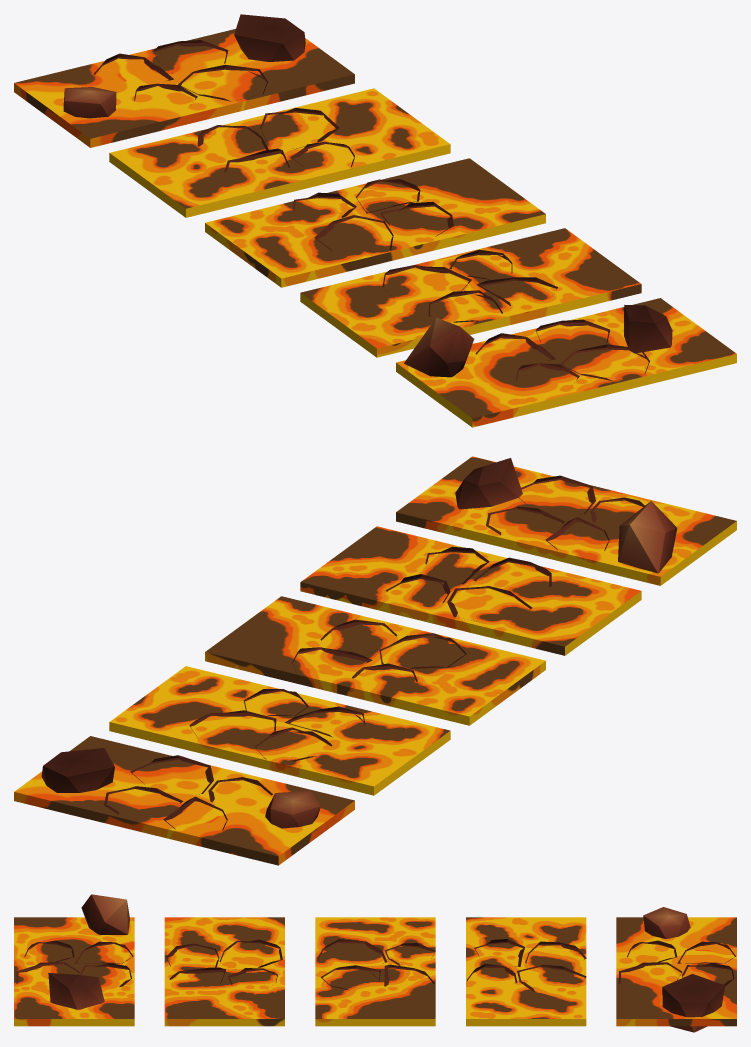
File: VolcanoPath.glb
3 renders of one model, top to bottom at view 1: azimuth 30°, elevation 25°; view 2: azimuth 150°, elevation 25°; view 3: azimuth 270°, elevation 25°, orthographic. The views are drawn at different scales.
Visible parts, largest first — view 1: Mod3, Mod2, Mod4, Mod5, Mod1, Sidelands5, Sidelands, Islands, Islands.003, Islands.004, Islands.002, Islands.001; view 2: Mod2, Mod3, Mod4, Mod1, Mod5, Sidelands5, Sidelands, Islands.003, Islands.001, Islands.002, Islands, Islands.004; view 3: Mod4, Mod3, Mod2, Mod5, Mod1, Sidelands, Sidelands5, Islands.002, Islands.001, Islands.004, Islands.003, Islands.
Part boxes in pixels (x1,y1,x2,y2): Mod3: [205, 158, 545, 287]; Mod2: [109, 88, 450, 217]; Mod4: [300, 228, 641, 357]; Mod5: [396, 298, 736, 427]; Mod1: [14, 29, 354, 147]; Sidelands5: [404, 304, 672, 377]; Sidelands: [63, 14, 305, 118]; Islands: [93, 40, 267, 107]; Islands.003: [382, 249, 557, 322]; Islands.004: [475, 319, 649, 389]; Islands.002: [293, 179, 453, 251]; Islands.001: [197, 108, 354, 172]; Mod2: [109, 666, 450, 795]; Mod3: [205, 596, 545, 725]; Mod4: [300, 526, 641, 655]; Mod1: [14, 736, 354, 865]; Mod5: [396, 456, 736, 585]; Sidelands5: [455, 458, 677, 573]; Sidelands: [41, 748, 320, 828]; Islands.003: [385, 546, 551, 622]; Islands.001: [189, 689, 365, 761]; Islands.002: [292, 619, 466, 681]; Islands: [104, 755, 272, 830]; Islands.004: [486, 475, 644, 550]; Mod4: [164, 917, 284, 1026]; Mod3: [315, 917, 435, 1026]; Mod2: [466, 917, 586, 1026]; Mod5: [14, 917, 134, 1026]; Mod1: [616, 917, 736, 1026]; Sidelands: [643, 907, 725, 1032]; Sidelands5: [48, 894, 129, 1009]; Islands.002: [317, 939, 435, 989]; Islands.001: [466, 939, 586, 992]; Islands.004: [16, 940, 133, 986]; Islands.003: [166, 939, 282, 988]; Islands: [618, 940, 735, 986].
Bounding box in the file's own units: 8.03 × 1.86 × 24.
Materials: 6 (6 with a texture image).
